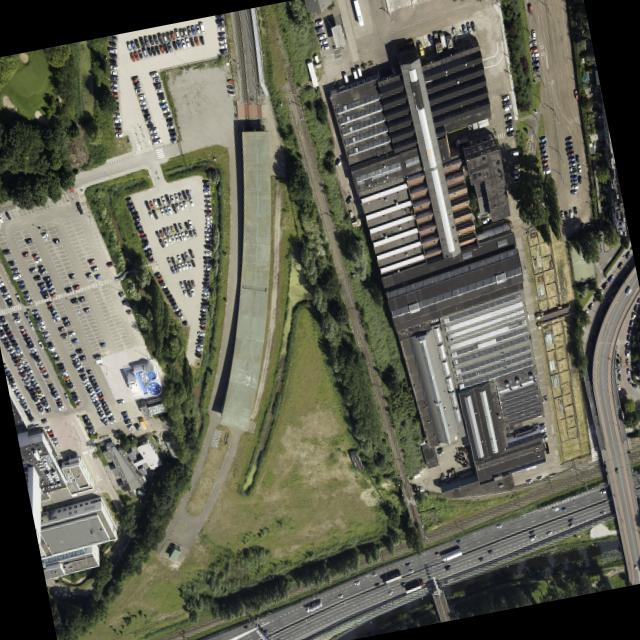large-vehicle: (440, 545, 462, 562), (380, 569, 401, 585), (403, 578, 424, 593), (303, 598, 322, 614), (352, 0, 363, 26), (611, 279, 620, 292), (615, 358, 620, 369)
small-vehicle: (75, 201, 83, 214), (334, 157, 342, 169), (316, 31, 326, 40), (601, 280, 609, 291), (624, 285, 632, 296), (355, 65, 362, 77), (351, 68, 358, 80), (198, 21, 205, 33), (138, 36, 145, 48), (502, 102, 511, 111), (314, 17, 323, 26), (623, 249, 631, 259), (606, 273, 614, 283), (508, 148, 518, 156), (318, 37, 328, 45), (342, 71, 348, 84), (141, 47, 148, 58), (156, 33, 163, 44), (142, 35, 149, 46), (541, 166, 550, 174), (530, 49, 539, 57), (480, 216, 489, 224), (320, 42, 329, 50), (314, 24, 323, 32), (186, 25, 192, 37), (149, 70, 158, 78), (152, 136, 161, 144), (148, 126, 157, 134), (184, 36, 190, 48), (126, 40, 132, 52), (174, 307, 182, 316), (28, 266, 37, 274), (11, 272, 20, 280), (345, 194, 352, 204), (214, 17, 224, 24), (158, 206, 165, 216), (162, 205, 169, 215), (151, 209, 158, 219), (23, 312, 30, 322), (25, 343, 35, 350), (465, 21, 471, 32), (190, 24, 196, 35), (160, 195, 166, 206), (129, 51, 135, 62), (173, 28, 179, 39), (166, 41, 172, 52), (162, 42, 168, 53), (161, 32, 167, 43), (161, 225, 167, 236), (570, 182, 578, 190), (529, 45, 537, 53), (528, 39, 536, 47), (506, 129, 514, 137), (505, 124, 513, 132), (501, 98, 509, 106), (501, 93, 509, 101), (138, 97, 146, 105), (157, 95, 165, 103), (135, 224, 143, 232), (140, 237, 148, 245), (109, 73, 117, 81), (24, 367, 32, 375), (32, 273, 40, 281), (587, 301, 594, 310), (616, 260, 623, 269), (564, 145, 573, 152), (596, 288, 603, 297), (512, 192, 519, 201), (538, 140, 547, 147), (158, 101, 167, 108), (149, 132, 158, 139), (162, 111, 171, 118), (143, 247, 152, 254), (138, 233, 147, 240), (107, 46, 116, 53), (125, 201, 134, 208), (66, 183, 73, 192), (40, 330, 49, 337), (46, 344, 55, 351), (20, 376, 29, 383), (14, 293, 21, 302), (38, 268, 47, 275), (4, 211, 11, 220), (1, 247, 10, 254), (6, 259, 15, 266), (15, 279, 24, 286), (63, 286, 72, 293), (166, 204, 172, 214), (182, 279, 188, 289), (188, 248, 194, 258), (188, 36, 194, 46), (164, 194, 170, 204), (193, 35, 199, 45), (169, 30, 175, 40), (180, 38, 186, 48), (150, 45, 156, 55), (137, 49, 143, 59), (133, 50, 139, 60), (175, 38, 181, 48), (165, 31, 171, 41), (152, 34, 158, 44), (147, 35, 153, 45), (158, 238, 164, 248), (148, 199, 154, 209), (144, 200, 150, 210), (37, 339, 43, 349), (28, 320, 34, 330), (581, 309, 588, 317), (591, 295, 598, 303), (531, 59, 539, 66), (538, 135, 546, 142), (566, 150, 574, 157), (564, 140, 572, 147), (564, 135, 572, 142), (568, 164, 576, 171), (529, 533, 536, 541), (116, 398, 124, 405), (504, 118, 512, 125), (504, 112, 511, 120), (540, 154, 548, 161), (203, 255, 211, 262), (154, 86, 162, 93), (137, 92, 145, 99), (145, 122, 153, 129), (144, 117, 152, 124), (140, 107, 148, 114), (161, 106, 169, 113), (130, 210, 138, 217), (141, 243, 149, 250), (61, 316, 69, 323), (51, 315, 59, 322), (171, 305, 179, 312), (124, 196, 132, 203), (84, 271, 92, 278), (167, 297, 175, 304), (155, 274, 163, 281), (145, 252, 153, 259), (35, 319, 43, 326), (108, 57, 116, 64), (66, 384, 74, 391), (37, 323, 45, 330), (87, 374, 95, 381), (85, 386, 93, 393), (76, 366, 84, 373), (74, 363, 82, 370), (131, 74, 138, 82), (69, 353, 77, 360), (78, 354, 86, 361), (59, 332, 67, 339), (60, 371, 68, 378), (70, 337, 78, 344), (74, 347, 82, 354), (82, 417, 90, 424), (80, 413, 88, 420), (87, 257, 95, 264), (19, 328, 27, 335), (25, 298, 33, 305), (30, 350, 38, 357), (20, 360, 28, 367), (16, 353, 24, 360), (13, 362, 21, 369), (36, 264, 44, 271), (33, 256, 41, 263), (40, 231, 48, 238), (67, 272, 75, 279), (37, 281, 45, 288), (47, 287, 55, 294), (44, 279, 52, 286), (42, 275, 50, 282), (86, 424, 94, 431), (0, 288, 8, 295), (21, 250, 29, 257), (77, 295, 85, 302), (72, 283, 80, 290), (576, 163, 581, 174), (573, 88, 578, 99), (470, 20, 475, 31), (632, 303, 638, 312), (183, 251, 189, 260), (180, 231, 186, 240), (173, 233, 179, 242), (166, 235, 172, 244), (172, 223, 178, 232), (188, 197, 194, 206), (182, 200, 188, 209), (178, 201, 184, 210), (181, 190, 187, 199), (173, 192, 179, 201), (158, 44, 164, 53), (154, 45, 160, 54), (146, 46, 152, 55), (152, 198, 158, 207), (63, 392, 69, 401), (162, 237, 168, 246), (55, 362, 64, 368), (12, 317, 21, 323), (33, 316, 42, 322), (1, 293, 10, 299), (69, 297, 78, 303), (530, 29, 535, 39), (527, 3, 532, 13), (427, 33, 432, 43), (461, 24, 466, 34), (178, 27, 183, 37), (171, 203, 176, 213), (187, 219, 192, 229), (195, 23, 200, 33), (199, 35, 204, 45), (182, 27, 187, 37), (172, 40, 177, 50), (134, 38, 139, 48), (130, 40, 135, 50), (166, 256, 171, 266), (599, 487, 606, 494), (604, 301, 611, 308), (568, 159, 575, 166), (567, 155, 574, 162), (541, 159, 548, 166), (538, 421, 545, 428), (512, 167, 519, 174), (551, 504, 558, 511), (525, 477, 532, 484), (107, 414, 114, 421), (444, 564, 451, 571), (203, 198, 210, 205), (532, 65, 539, 72), (166, 122, 173, 129), (123, 417, 130, 424), (97, 393, 104, 400), (137, 229, 144, 236), (133, 220, 140, 227), (120, 298, 127, 305), (57, 325, 64, 332), (51, 311, 58, 318), (117, 290, 124, 297), (170, 301, 177, 308), (165, 293, 172, 300), (163, 289, 170, 296), (153, 271, 160, 278), (81, 376, 88, 383), (72, 360, 79, 367), (105, 410, 112, 417), (176, 312, 183, 319), (62, 374, 69, 381), (100, 416, 107, 423), (89, 392, 96, 399), (96, 409, 103, 416), (90, 395, 97, 402), (31, 381, 38, 388), (46, 382, 53, 389), (38, 365, 45, 372), (39, 395, 46, 402), (31, 308, 38, 315), (15, 349, 22, 356), (7, 334, 14, 341), (5, 330, 12, 337), (39, 285, 46, 292), (49, 307, 56, 314), (45, 300, 52, 307), (49, 291, 56, 298), (46, 283, 53, 290), (31, 252, 38, 259), (569, 178, 577, 184), (569, 174, 577, 180), (569, 188, 577, 194), (569, 169, 577, 175), (513, 176, 521, 182), (512, 172, 520, 178), (218, 37, 226, 43), (203, 243, 211, 249), (189, 287, 195, 295), (169, 266, 175, 274), (186, 260, 192, 268), (183, 221, 189, 229), (177, 222, 183, 230), (165, 226, 171, 234), (168, 132, 176, 138), (167, 127, 175, 133), (198, 317, 206, 323), (153, 81, 161, 87), (143, 113, 151, 119), (139, 103, 147, 109), (165, 117, 173, 123), (158, 229, 164, 237), (154, 230, 160, 238), (132, 215, 140, 221), (62, 320, 70, 326), (114, 131, 122, 137), (93, 273, 101, 279), (90, 265, 98, 271), (108, 52, 116, 58), (109, 63, 117, 69), (219, 48, 227, 54), (71, 357, 79, 363), (67, 330, 75, 336), (64, 381, 72, 387), (59, 368, 67, 374), (57, 365, 65, 371), (84, 421, 92, 427), (34, 389, 42, 395), (11, 312, 19, 318), (23, 336, 31, 342), (28, 347, 36, 353), (4, 297, 12, 303), (98, 341, 106, 347), (26, 415, 34, 421), (28, 391, 36, 397), (4, 344, 12, 350), (0, 336, 8, 342), (30, 394, 38, 400), (26, 387, 34, 393), (24, 384, 32, 390), (39, 369, 47, 375), (22, 364, 30, 370), (17, 370, 25, 376), (21, 290, 29, 296), (17, 398, 25, 404), (15, 394, 23, 400), (39, 289, 47, 295), (111, 105, 119, 111), (8, 380, 16, 386), (6, 377, 14, 383), (50, 437, 58, 443), (10, 267, 18, 273), (51, 237, 59, 243), (24, 237, 32, 243), (45, 429, 53, 435), (579, 222, 584, 231), (559, 210, 564, 219), (574, 154, 579, 163), (186, 288, 191, 297), (179, 281, 184, 290), (185, 189, 190, 198), (82, 307, 89, 313), (603, 305, 609, 312), (598, 315, 604, 322), (539, 150, 546, 156), (531, 55, 538, 61), (541, 164, 548, 170), (435, 446, 442, 452), (528, 529, 535, 535), (536, 474, 542, 481), (539, 425, 546, 431), (2, 340, 9, 346), (108, 418, 115, 424), (197, 330, 204, 336), (218, 31, 225, 37), (512, 162, 519, 168), (195, 345, 202, 351), (217, 24, 224, 30), (194, 352, 201, 358), (539, 145, 546, 151), (0, 319, 7, 325), (181, 319, 187, 326), (204, 239, 211, 245), (203, 264, 210, 270), (204, 230, 211, 236), (156, 91, 163, 97), (169, 137, 176, 143), (152, 76, 159, 82), (120, 410, 127, 416), (1, 323, 8, 329), (128, 206, 135, 212), (147, 257, 154, 263), (69, 390, 76, 396), (72, 397, 79, 403), (43, 425, 50, 431), (40, 417, 47, 423), (74, 400, 81, 406), (70, 394, 77, 400), (108, 40, 115, 46), (126, 423, 133, 429), (110, 80, 117, 86), (110, 91, 117, 97), (105, 261, 112, 267), (161, 286, 168, 292), (159, 282, 166, 288), (157, 279, 164, 285), (109, 68, 116, 74), (87, 389, 94, 395), (82, 380, 89, 386), (89, 378, 96, 384), (219, 42, 226, 48), (101, 404, 108, 410), (132, 80, 139, 86), (134, 86, 141, 92), (79, 373, 86, 379), (64, 378, 71, 384), (52, 355, 59, 361), (50, 351, 57, 357), (95, 390, 102, 396), (92, 384, 99, 390), (98, 413, 105, 419), (94, 402, 100, 409), (29, 379, 36, 385), (28, 375, 35, 381), (17, 325, 24, 331), (21, 332, 28, 338), (25, 340, 32, 346), (33, 385, 40, 391), (37, 392, 44, 398), (36, 405, 43, 411), (50, 390, 57, 396), (52, 393, 59, 399), (44, 406, 51, 412), (40, 399, 47, 405), (32, 398, 39, 404), (34, 401, 41, 407), (6, 348, 13, 354), (18, 357, 25, 363), (13, 346, 20, 352), (11, 342, 18, 348), (32, 354, 39, 360), (37, 408, 44, 414), (8, 351, 15, 357), (10, 355, 17, 361), (12, 359, 19, 365), (23, 380, 30, 386), (23, 295, 30, 301), (23, 408, 30, 414), (21, 405, 28, 411), (20, 401, 27, 407), (18, 283, 25, 289), (41, 293, 48, 299), (113, 111, 120, 117), (110, 85, 117, 91), (46, 305, 53, 311), (10, 384, 17, 390), (0, 284, 6, 291), (630, 311, 635, 319), (628, 319, 633, 327), (202, 281, 210, 286), (182, 289, 187, 297), (175, 203, 180, 211), (190, 279, 195, 287), (190, 259, 195, 267), (183, 261, 188, 269), (180, 253, 185, 261), (176, 254, 181, 262), (176, 263, 181, 271), (173, 264, 178, 272), (170, 256, 175, 264), (192, 228, 197, 236), (184, 230, 189, 238), (177, 232, 182, 240), (170, 234, 175, 242), (169, 225, 174, 233), (188, 229, 193, 237), (177, 192, 182, 200), (169, 194, 174, 202), (148, 211, 153, 219), (156, 198, 161, 206), (113, 122, 121, 127), (113, 117, 121, 122), (110, 96, 118, 101), (599, 509, 605, 515), (373, 581, 379, 587), (607, 298, 613, 304), (568, 209, 572, 218), (564, 210, 568, 219), (631, 382, 637, 388), (400, 581, 406, 587), (540, 431, 546, 437), (487, 548, 493, 554), (546, 529, 552, 535), (567, 517, 573, 523), (560, 506, 566, 512), (541, 434, 547, 440), (0, 332, 6, 338), (525, 311, 529, 320), (353, 579, 359, 585), (370, 571, 376, 577), (404, 561, 410, 567), (197, 334, 203, 340), (262, 628, 268, 634), (202, 285, 208, 291), (204, 250, 210, 256), (204, 194, 210, 200), (200, 309, 206, 315), (122, 414, 128, 420), (125, 308, 131, 314), (85, 368, 91, 374), (84, 383, 90, 389), (97, 397, 103, 403), (100, 400, 106, 406), (103, 407, 109, 413), (46, 340, 52, 346), (91, 381, 97, 387), (94, 388, 100, 394), (96, 406, 102, 412), (91, 399, 97, 405), (49, 386, 55, 392), (56, 400, 62, 406), (57, 404, 63, 410), (35, 358, 41, 364), (26, 372, 32, 378), (16, 366, 22, 372), (14, 391, 20, 397), (12, 387, 18, 393), (6, 373, 12, 379), (89, 428, 95, 434), (626, 377, 631, 384), (436, 450, 443, 455), (196, 338, 203, 343), (195, 342, 202, 347), (202, 184, 209, 189), (202, 179, 209, 184), (200, 306, 207, 311), (201, 293, 208, 298), (204, 226, 211, 231), (186, 280, 191, 287), (180, 262, 185, 269), (203, 269, 210, 274), (47, 433, 54, 438), (132, 422, 139, 427), (42, 335, 49, 340), (114, 127, 121, 132), (3, 327, 10, 332), (41, 373, 48, 378), (42, 403, 49, 408), (9, 339, 16, 344), (36, 362, 43, 367), (111, 101, 118, 106), (32, 313, 39, 318), (52, 441, 59, 446), (6, 302, 13, 307), (116, 548, 121, 555), (636, 296, 640, 304), (573, 206, 577, 214), (589, 334, 593, 342), (60, 591, 64, 599), (387, 590, 393, 595), (407, 568, 413, 573), (199, 321, 205, 326), (567, 522, 573, 527), (199, 325, 205, 330), (337, 593, 343, 598), (242, 624, 248, 629), (195, 349, 201, 354), (200, 302, 206, 307), (201, 298, 207, 303), (204, 235, 210, 240), (203, 189, 209, 194), (204, 204, 210, 209), (204, 209, 210, 214), (205, 214, 211, 219), (205, 218, 211, 223), (205, 222, 211, 227), (203, 273, 209, 278), (203, 277, 209, 282), (0, 315, 5, 321), (52, 589, 57, 595), (71, 594, 77, 599), (111, 558, 116, 564), (495, 523, 501, 528), (102, 420, 108, 425), (54, 397, 60, 402), (20, 374, 26, 379), (25, 412, 31, 417), (614, 467, 618, 474), (616, 383, 620, 390), (625, 367, 629, 374), (203, 261, 210, 265), (114, 553, 118, 560), (109, 563, 113, 570), (48, 586, 52, 593), (625, 348, 628, 357), (478, 556, 483, 561), (455, 539, 460, 544), (203, 289, 208, 294), (200, 313, 205, 318), (135, 425, 140, 430), (578, 175, 581, 183), (627, 327, 631, 333), (617, 373, 620, 381), (0, 215, 3, 223), (122, 539, 126, 545), (0, 280, 4, 286), (626, 334, 629, 341), (625, 342, 628, 349), (625, 358, 628, 365), (616, 368, 620, 373), (433, 551, 438, 555), (0, 328, 3, 333), (633, 564, 636, 569), (638, 386, 640, 389)
